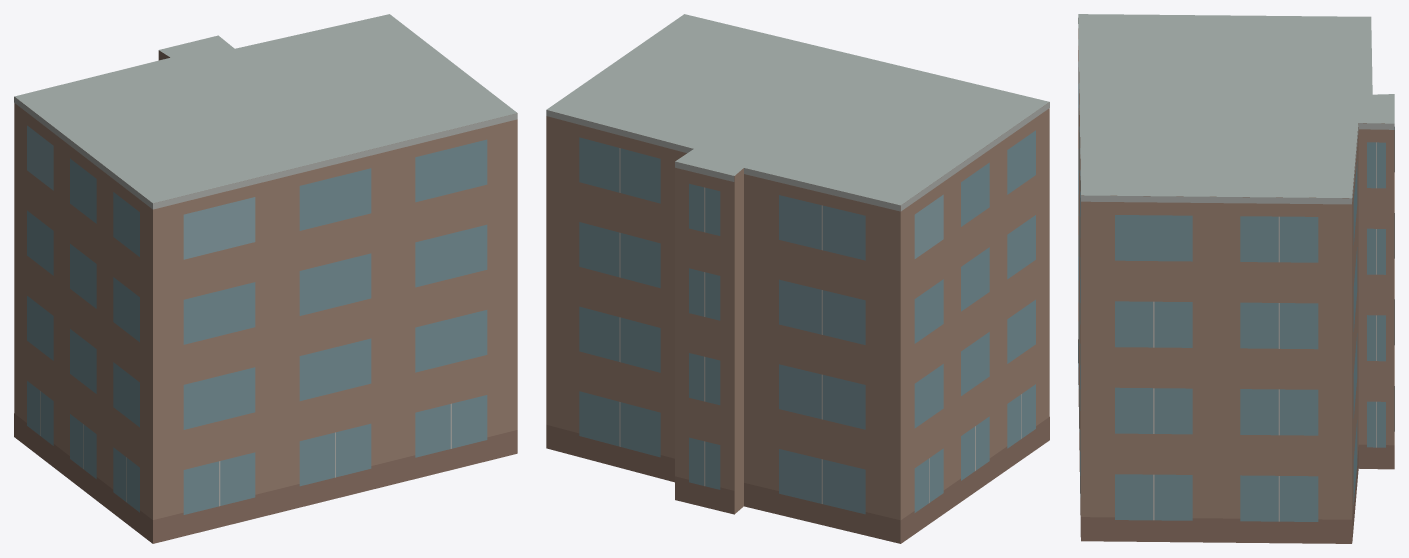
File: survey-upis-32577603.glb
3 renders of one model, left to right at view 1: azimuth 30°, elevation 25°; view 2: azimuth 150°, elevation 25°; view 3: azimuth 270°, elevation 25°, orthographic. The views are drawn at different scales.
Visible parts, largest first — view 1: survey-upis-32577603.tmp; view 2: survey-upis-32577603.tmp; view 3: survey-upis-32577603.tmp.
Part boxes in pixels (left/top/right/bottom): survey-upis-32577603.tmp: left=14, top=14, right=517, bottom=543; survey-upis-32577603.tmp: left=546, top=14, right=1049, bottom=543; survey-upis-32577603.tmp: left=1078, top=14, right=1394, bottom=543.
Bounding box in the file's own units: 15.32 × 13.4 × 11.13.
